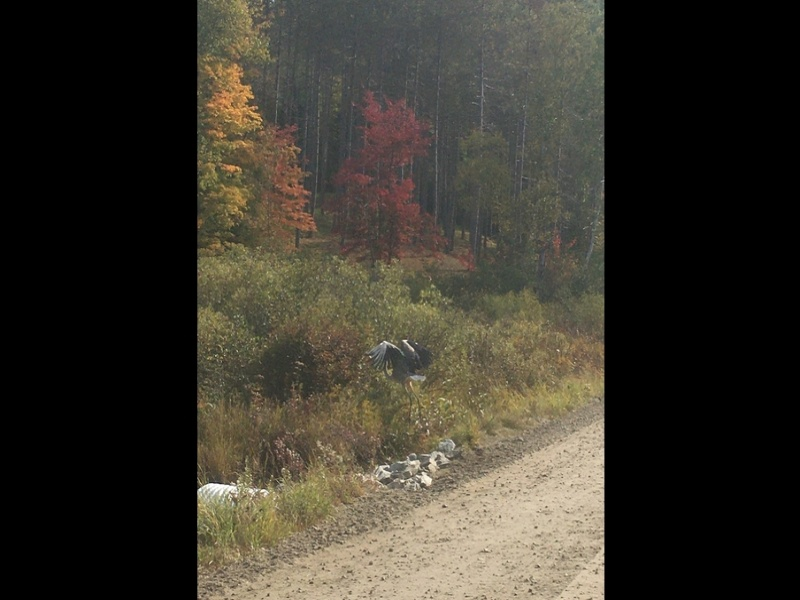heron: (366, 335, 437, 431)
